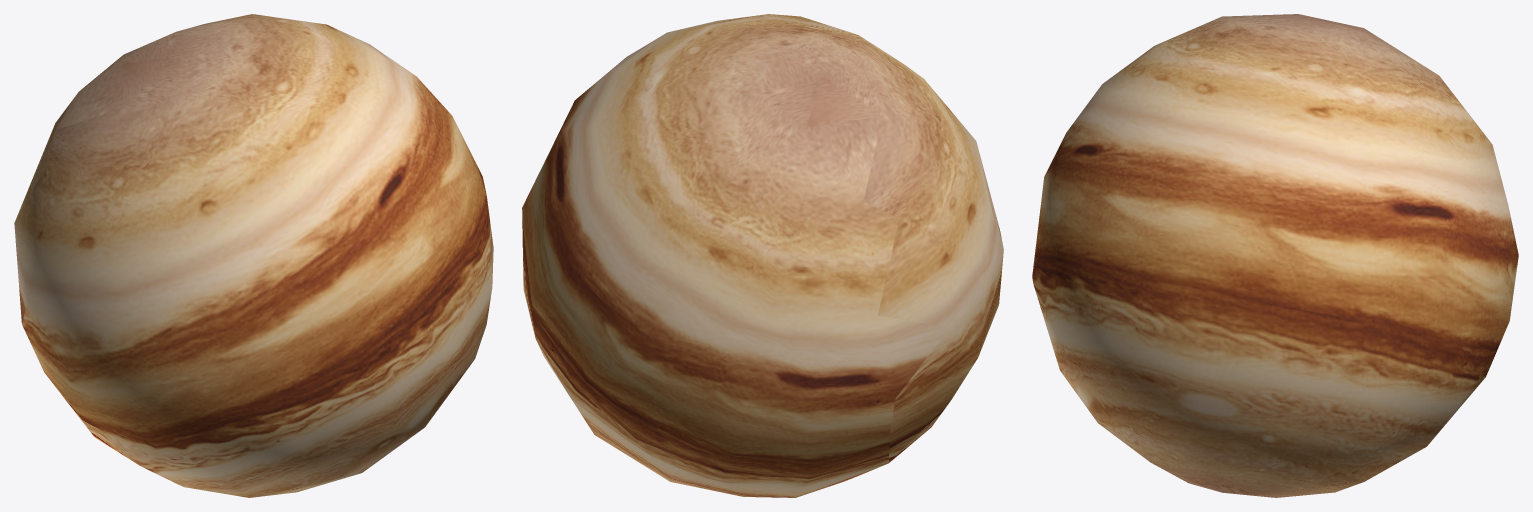
File: jupiter.obj
3 renders of one model, left to right at view 1: azimuth 30°, elevation 25°; view 2: azimuth 150°, elevation 25°; view 3: azimuth 270°, elevation 25°, orthographic.
Parts seen in each view (by area): view 1: Sphere; view 2: Sphere; view 3: Sphere.
Part boxes in pixels (left/top/right/bottom): Sphere: left=14, top=14, right=493, bottom=497; Sphere: left=522, top=14, right=1003, bottom=497; Sphere: left=1032, top=14, right=1518, bottom=497.
Size of the model in its own units: 1.99 by 2 by 2.
